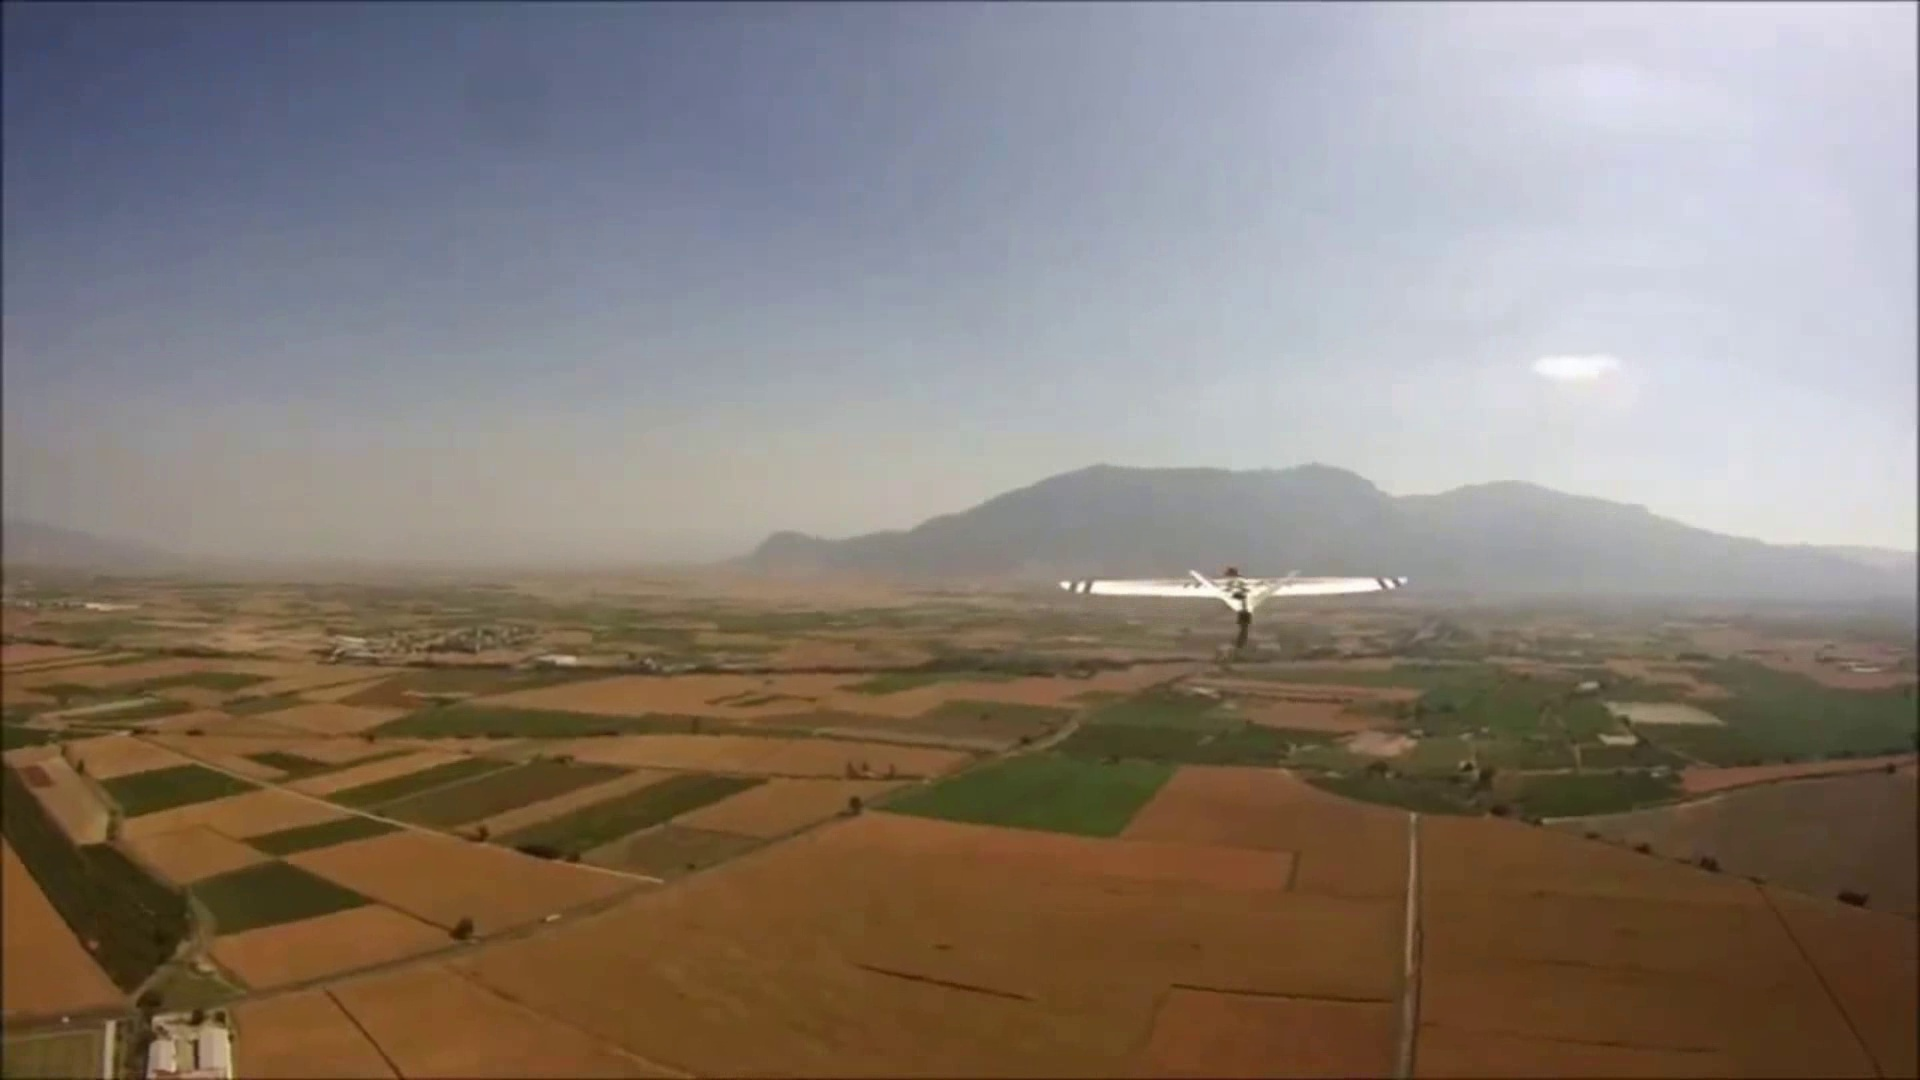airplane: (1064, 564, 1408, 651)
